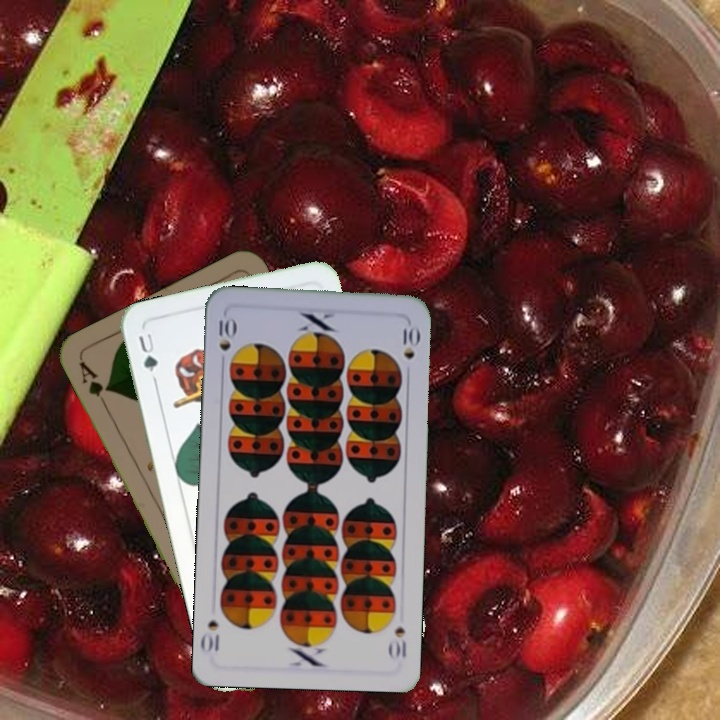GA: (75, 357, 112, 410)
GU: (134, 329, 161, 375)
S10: (214, 313, 237, 370), (385, 623, 409, 662)
